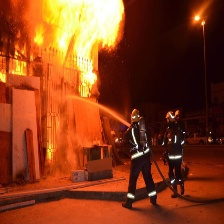fire: (43, 1, 126, 98), (1, 32, 43, 82)
